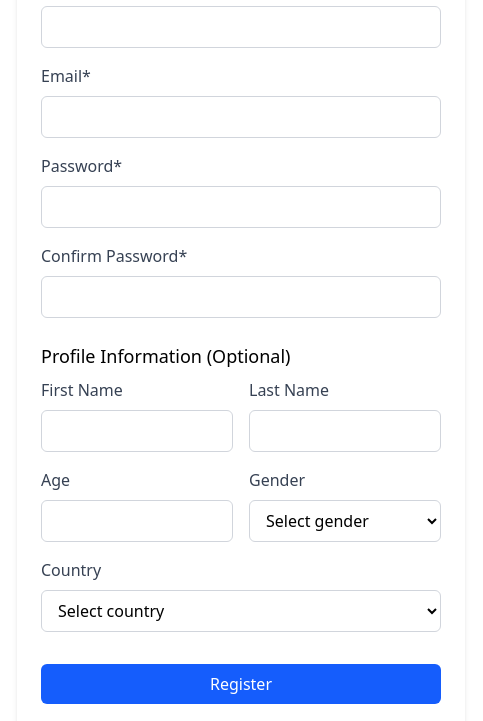
Test: RegisterForm › shows validation errors when submitting an empty form
This screenshot has width=483, height=721.
(page scrolled)
Note: Submit the form without entering any data
Click the button "Register" at (241, 684), box [41, 664, 441, 704]
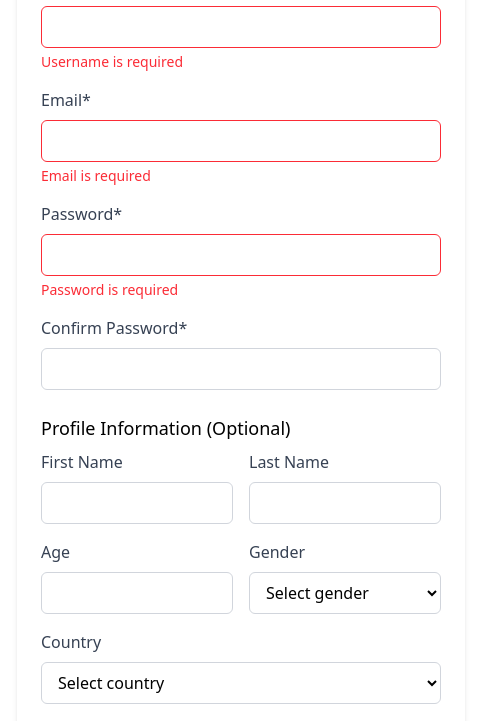
Expected: the text "Username is required" is shown, [41, 52, 183, 71]
Expected: the text "Email is required" is shown, [41, 166, 151, 185]
Expected: the text "Password is required" is shown, [41, 280, 178, 299]
